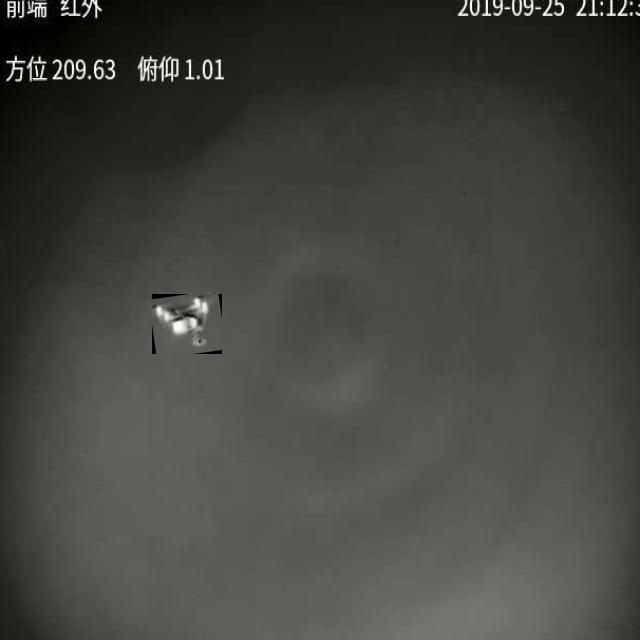drone: (152, 294, 222, 354)
